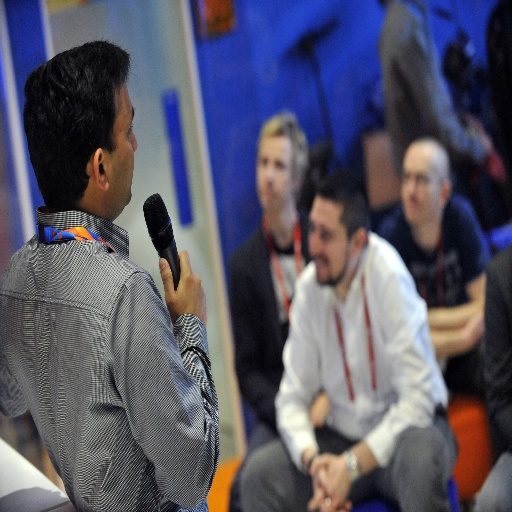hand: (150, 240, 207, 344), (305, 456, 351, 511), (312, 465, 351, 511), (465, 306, 485, 346), (309, 393, 330, 427)
